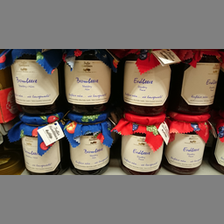jam: (9, 50, 61, 115), (61, 50, 114, 113), (117, 112, 168, 174), (163, 112, 211, 175), (15, 114, 64, 175), (172, 50, 220, 112), (124, 51, 172, 113), (65, 112, 112, 174)
